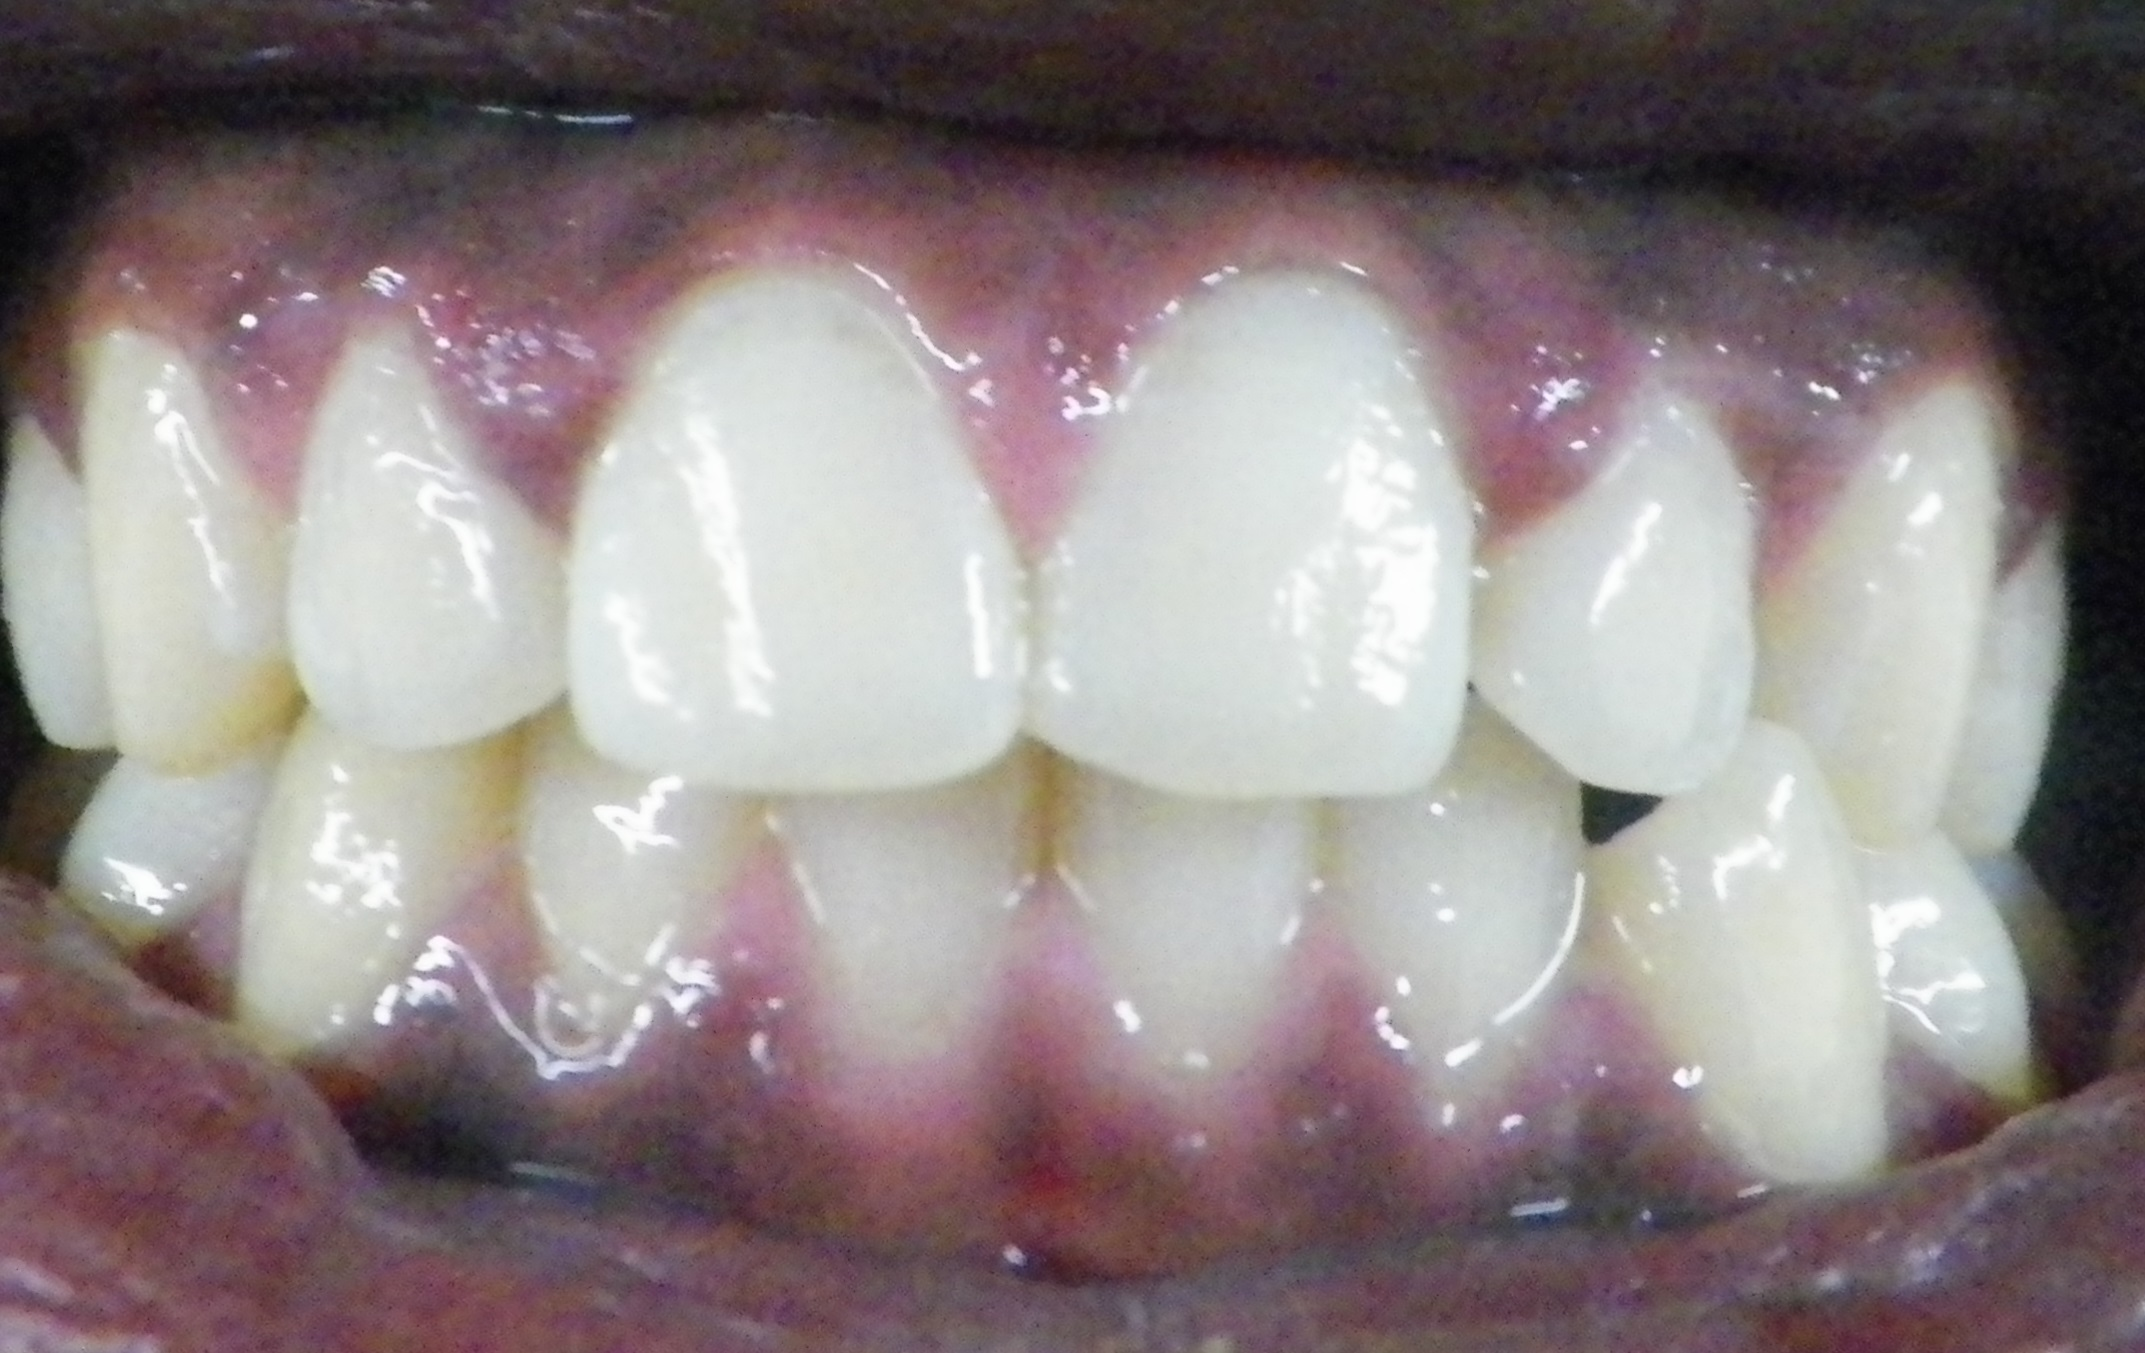boca: (17, 268, 2067, 1175)
